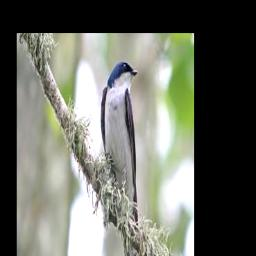Swallow: (100, 58, 143, 256)
